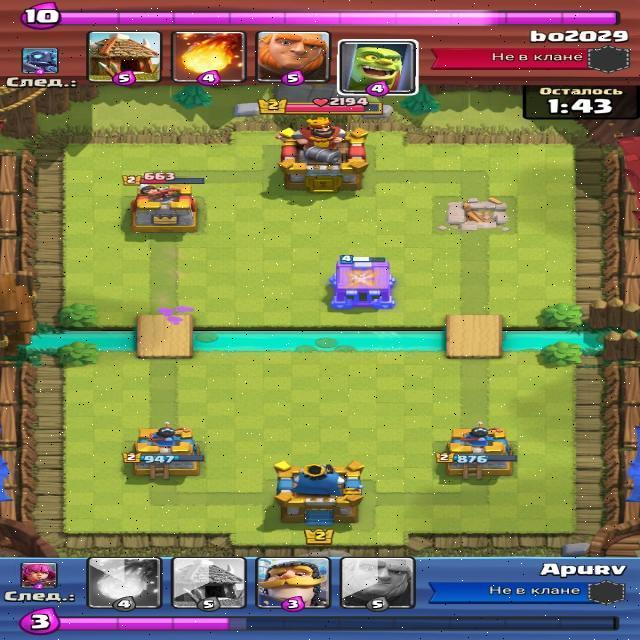EKingTower: (282, 122, 366, 191)
EnemyPrincessTower: (128, 178, 202, 230)
OGoblinCage: (330, 257, 397, 311)
OwnKingTower: (272, 459, 358, 523)
OwnPrincessTower: (448, 421, 512, 475), (132, 427, 198, 477)
TowerDown: (429, 189, 519, 235)
